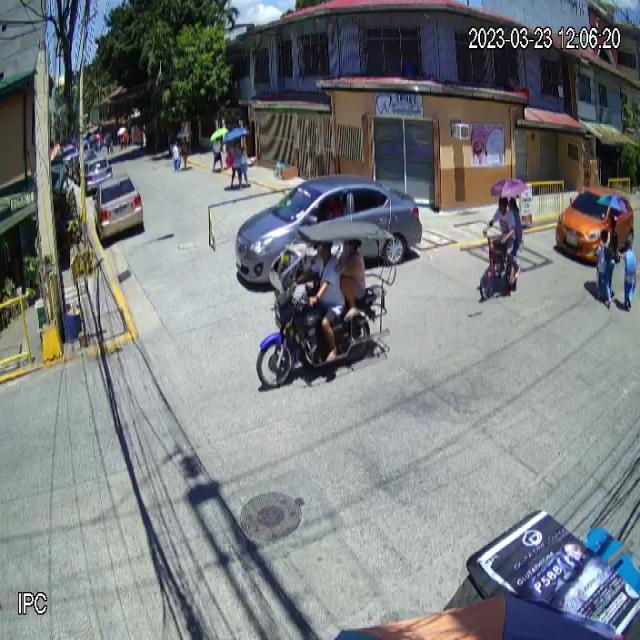Car: (235, 173, 423, 288), (556, 187, 634, 263)
Tricycle: (254, 220, 398, 394)
